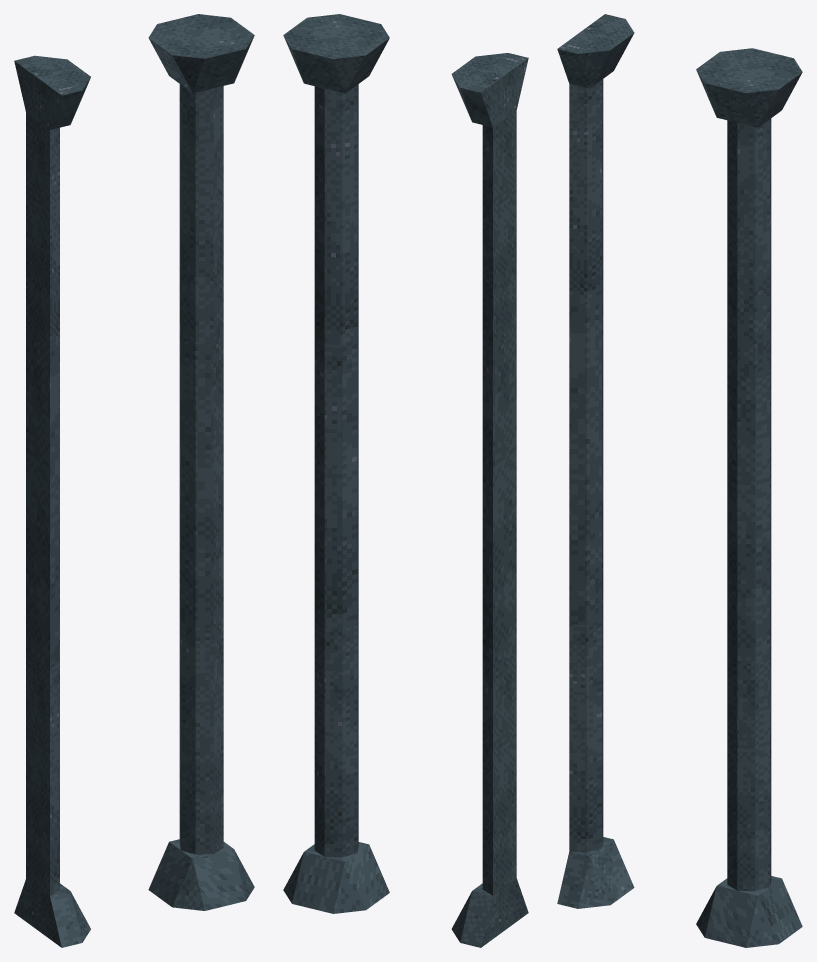
Rendered from Pillars.fbx.
3 views of the same model, side by side, from view 1: azimuth 30°, elevation 25°; view 2: azimuth 150°, elevation 25°; view 3: azimuth 330°, elevation 25° (orthographic).
Visible parts, largest first — view 1: TallPillar, HalfPillar; view 2: TallPillar, HalfPillar; view 3: TallPillar, HalfPillar.
Boxes of the visible parts, x1,y1,x2,y2 form: TallPillar: (148, 14, 254, 910); HalfPillar: (14, 55, 90, 947); TallPillar: (283, 14, 389, 913); HalfPillar: (451, 53, 528, 947); TallPillar: (696, 48, 802, 947); HalfPillar: (557, 14, 634, 908).
Size of the model in its own units: 201 by 83.46 by 789.
Materials: 1 (1 with a texture image).
